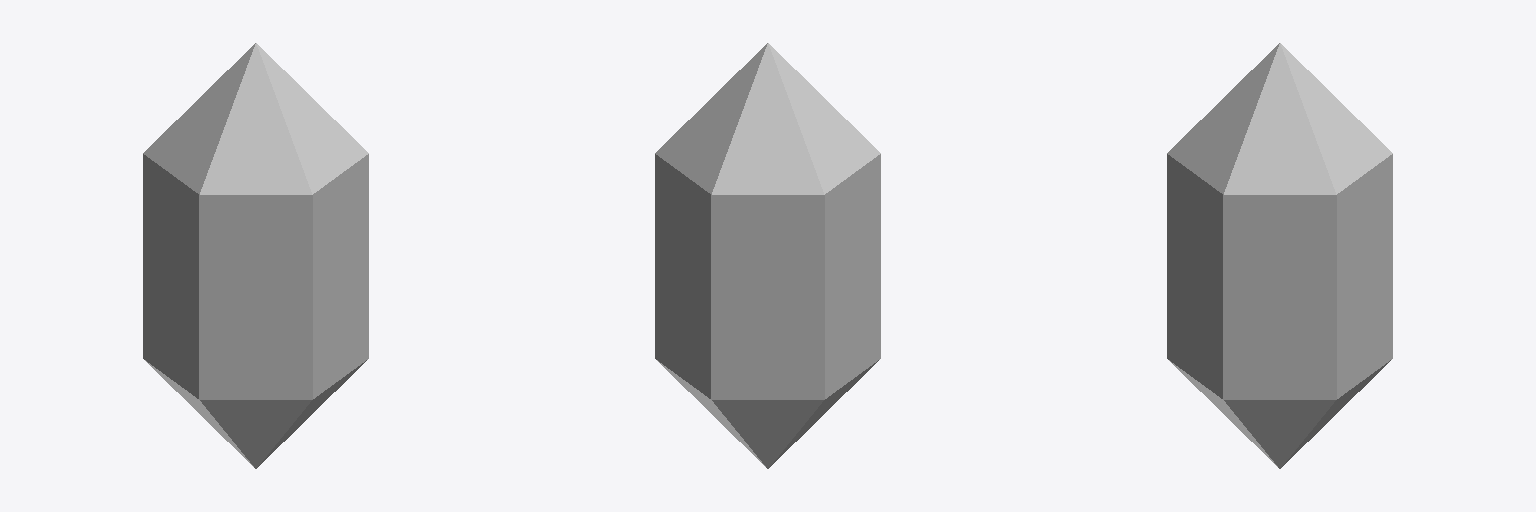
File: demo_lant_obj.obj
The picture shows the model from 3 angles: view 1: azimuth 30°, elevation 25°; view 2: azimuth 150°, elevation 25°; view 3: azimuth 270°, elevation 25°; orthographic projection.
Parts seen in each view (by area): view 1: [Imported]_obj1_obj1; view 2: [Imported]_obj1_obj1; view 3: [Imported]_obj1_obj1.
Part boxes in pixels (x1,y1,x2,y2): [Imported]_obj1_obj1: (143, 43, 368, 468); [Imported]_obj1_obj1: (655, 43, 880, 468); [Imported]_obj1_obj1: (1167, 43, 1392, 468).
Bounding box in the file's own units: 1.73 × 4.16 × 2.